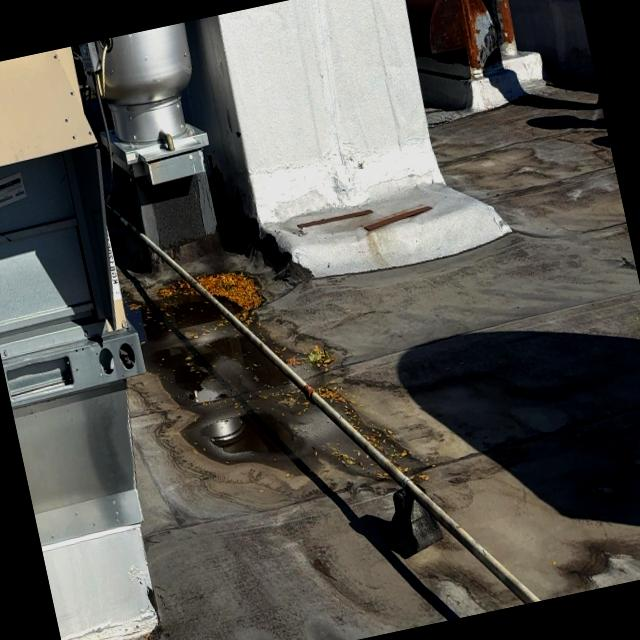GRAVITY-VENT: (77, 21, 230, 240), (451, 0, 540, 102)
RTU: (0, 33, 260, 640)
